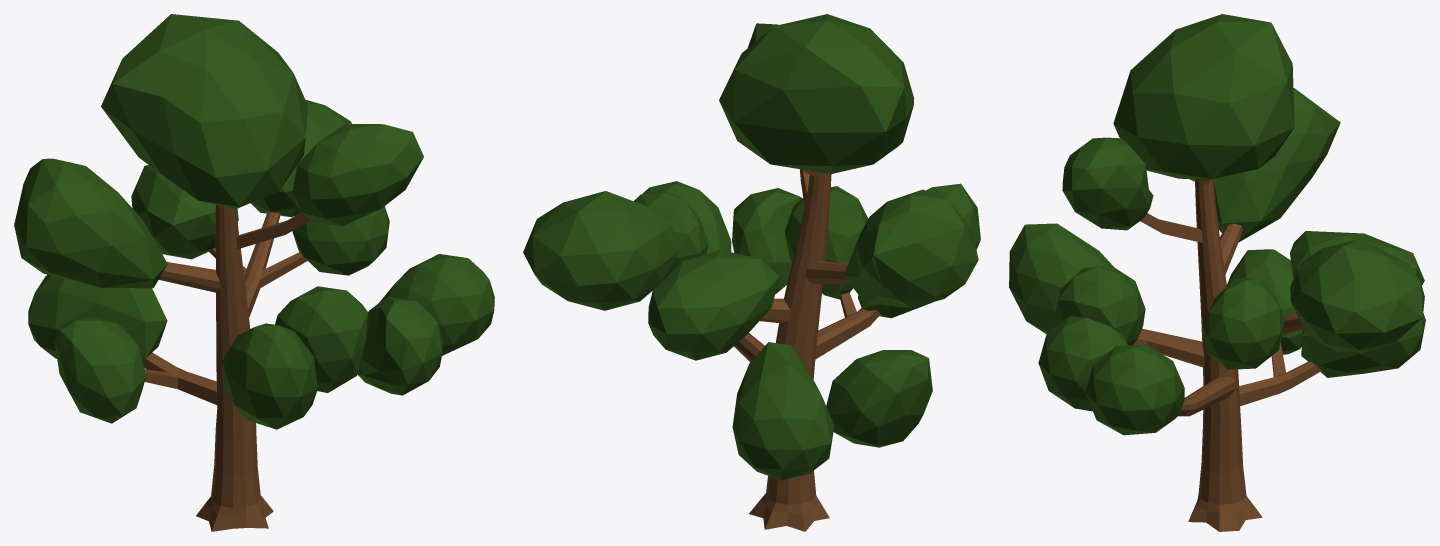
3 renders of one model, left to right at view 1: azimuth 30°, elevation 25°; view 2: azimuth 150°, elevation 25°; view 3: azimuth 270°, elevation 25°, orthographic. The views are drawn at different scales.
Visible parts, largest first — view 1: Icosphere.004, Cylinder.022; view 2: Icosphere.004, Cylinder.022; view 3: Icosphere.004, Cylinder.022.
Part boxes in pixels (left/top/right/bottom): Icosphere.004: left=14, top=14, right=494, bottom=429; Cylinder.022: left=143, top=205, right=309, bottom=531; Icosphere.004: left=523, top=14, right=980, bottom=480; Cylinder.022: left=734, top=169, right=880, bottom=531; Icosphere.004: left=1009, top=14, right=1425, bottom=435; Cylinder.022: left=1133, top=177, right=1321, bottom=531.
Size of the model in its own units: 9.77 by 11.52 by 9.11.
